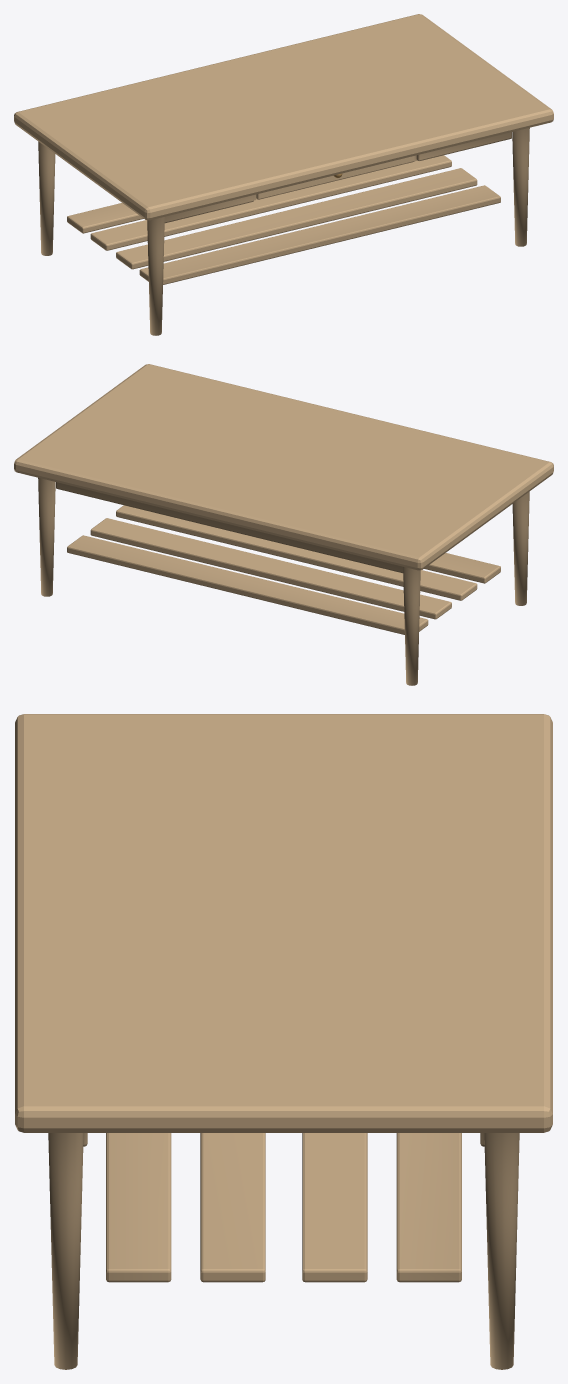
File: coffeeTable.glb
3 renders of one model, top to bottom at view 1: azimuth 30°, elevation 25°; view 2: azimuth 150°, elevation 25°; view 3: azimuth 270°, elevation 25°, orthographic. The views are drawn at different scales.
Parts seen in each view (by area): view 1: table, drawer; view 2: table; view 3: table.
Boxes of the visible parts, x1=… form: table: x1=14, y1=14, x2=553, y2=335; drawer: x1=256, y1=156, x2=414, y2=199; table: x1=14, y1=364, x2=553, y2=685; table: x1=15, y1=714, x2=552, y2=1369.
Bounding box in the file's own units: 1.3 × 0.42 × 0.74.
